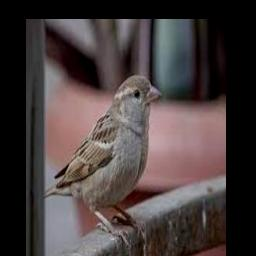Sparrow: (44, 74, 163, 245)
